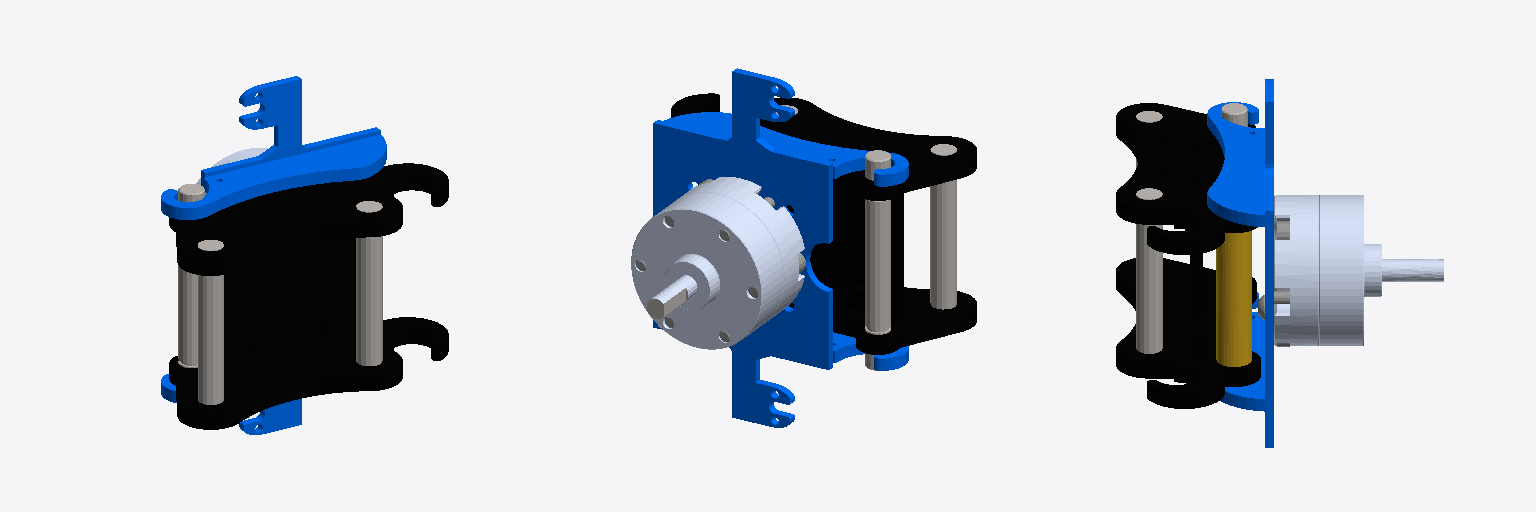
Rendered from tool_body_Mesh.obj.
3 views of the same model, side by side, from view 1: azimuth 30°, elevation 25°; view 2: azimuth 150°, elevation 25°; view 3: azimuth 270°, elevation 25° (orthographic).
Size of the model in its own units: 0.0721 by 0.0855 by 0.0735.